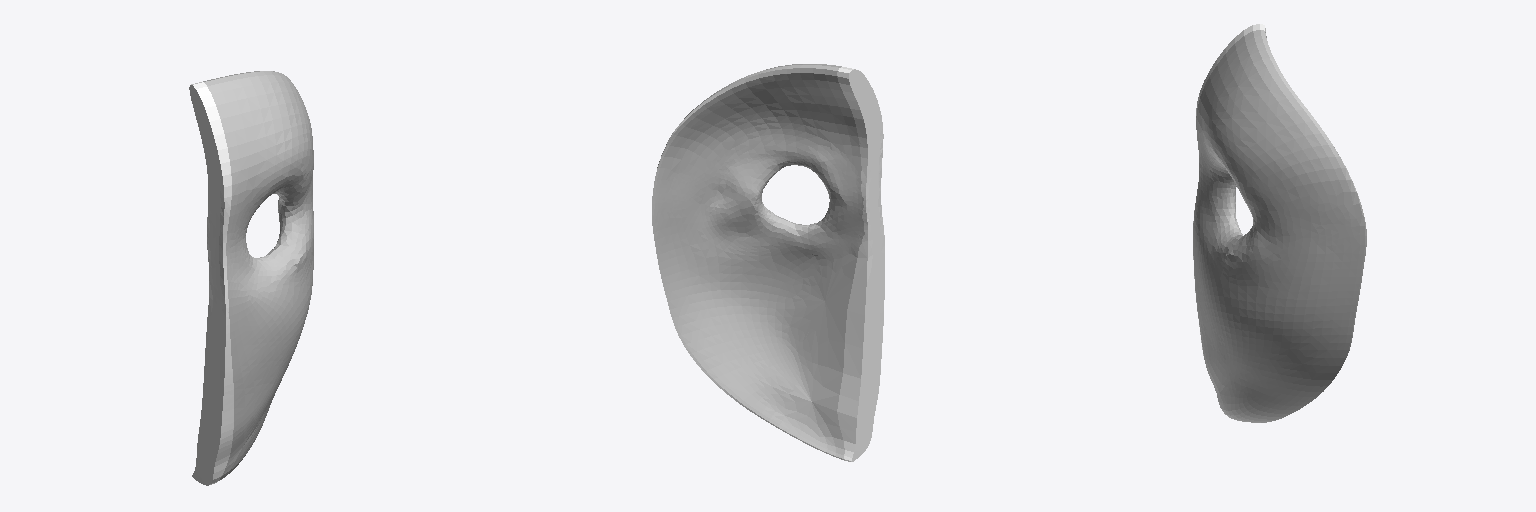
3 views of the same model, side by side, from view 1: azimuth 30°, elevation 25°; view 2: azimuth 150°, elevation 25°; view 3: azimuth 270°, elevation 25° (orthographic).
Visible parts, largest first — view 1: mmGroup0; view 2: mmGroup0; view 3: mmGroup0.
Part boxes in pixels (left/top/right/bottom): mmGroup0: left=189, top=71, right=313, bottom=485; mmGroup0: left=652, top=64, right=884, bottom=461; mmGroup0: left=1193, top=24, right=1366, bottom=422.
Bounding box in the file's own units: 8.17 × 20.8 × 8.36.
Materials: 2 (1 with a texture image).